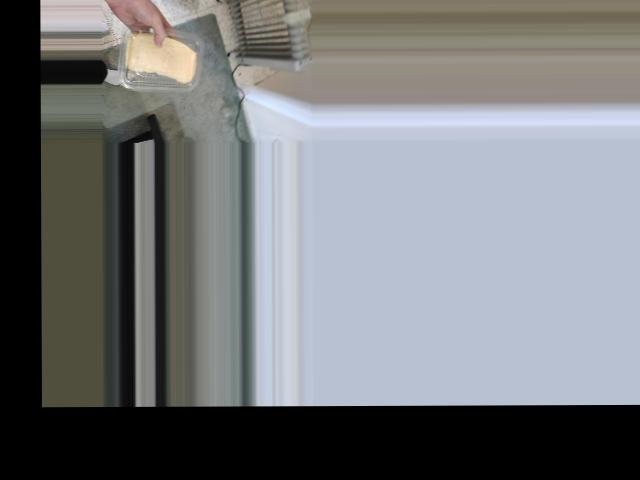cheese: (119, 26, 206, 90)
